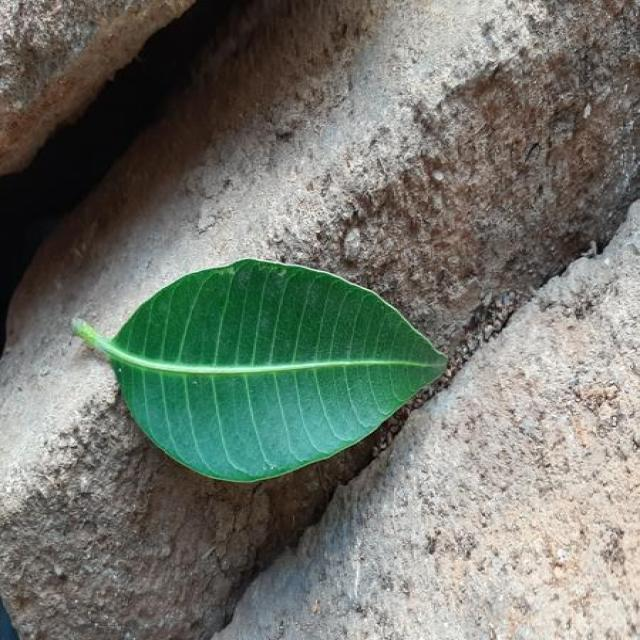mango: (73, 259, 447, 482)
